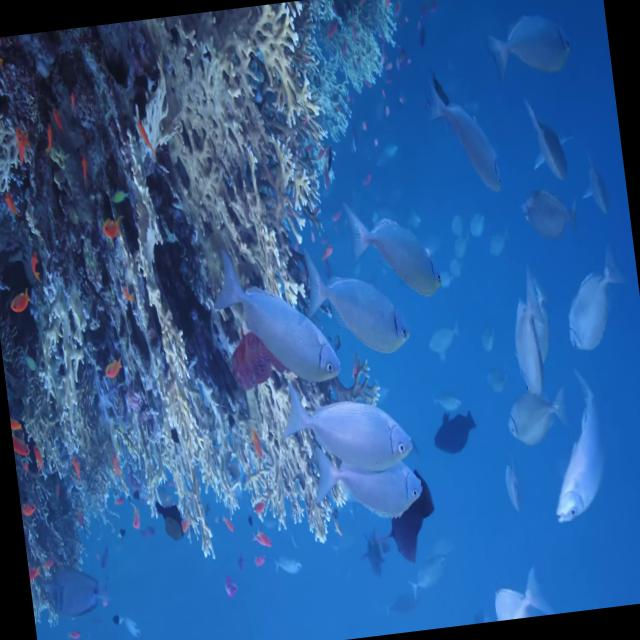fish: (212, 231, 341, 398), (346, 179, 451, 325), (299, 247, 422, 370), (534, 372, 616, 530), (278, 389, 418, 480), (423, 74, 512, 210), (306, 445, 428, 532), (550, 234, 639, 348), (512, 171, 618, 255), (495, 265, 560, 398), (477, 5, 578, 86), (512, 92, 576, 200), (500, 374, 575, 460), (40, 558, 111, 630), (474, 562, 556, 622), (423, 400, 484, 476), (342, 519, 396, 586), (424, 316, 465, 373), (480, 219, 515, 265), (274, 548, 308, 588)
